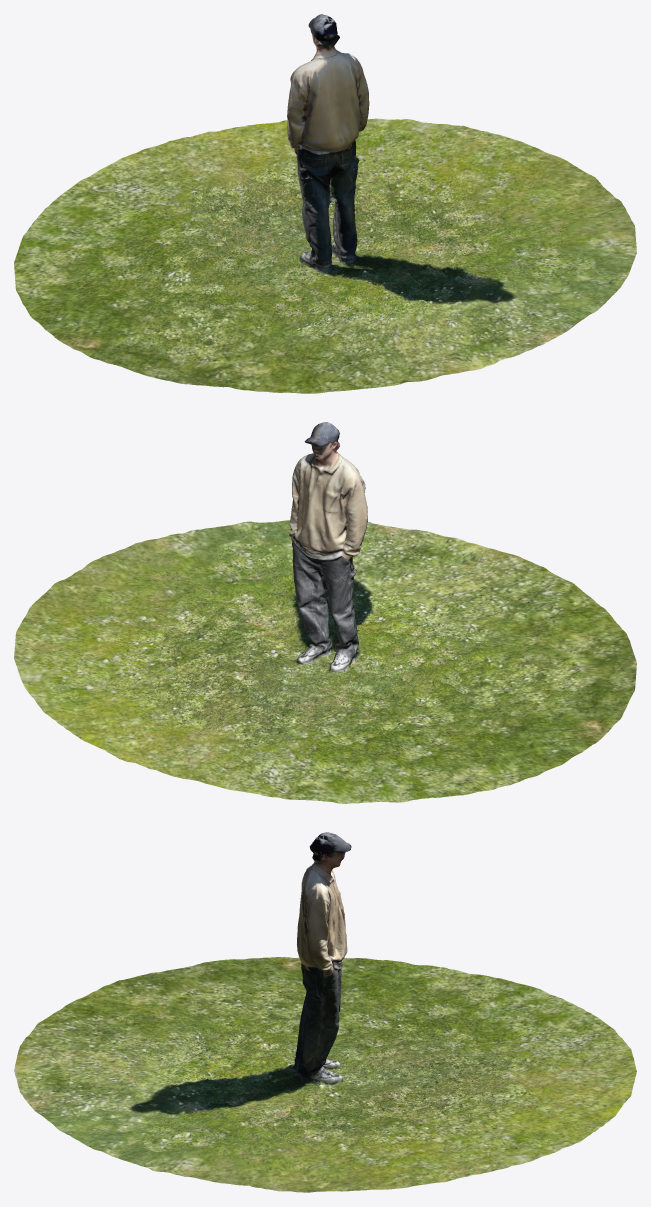
Rendered from Jan3d.glb.
The picture shows the model from 3 angles, top to bottom: view 1: azimuth 30°, elevation 25°; view 2: azimuth 150°, elevation 25°; view 3: azimuth 270°, elevation 25°; orthographic projection.
Visible parts, largest first — view 1: 3DModel; view 2: 3DModel; view 3: 3DModel.
Part boxes in pixels (bbox=[...]): 3DModel: bbox=[14, 14, 636, 393]; 3DModel: bbox=[14, 422, 636, 803]; 3DModel: bbox=[14, 832, 636, 1192].
Bounding box in the file's own units: 1.25 × 0.569 × 1.25.
1 material, 1 textured.
